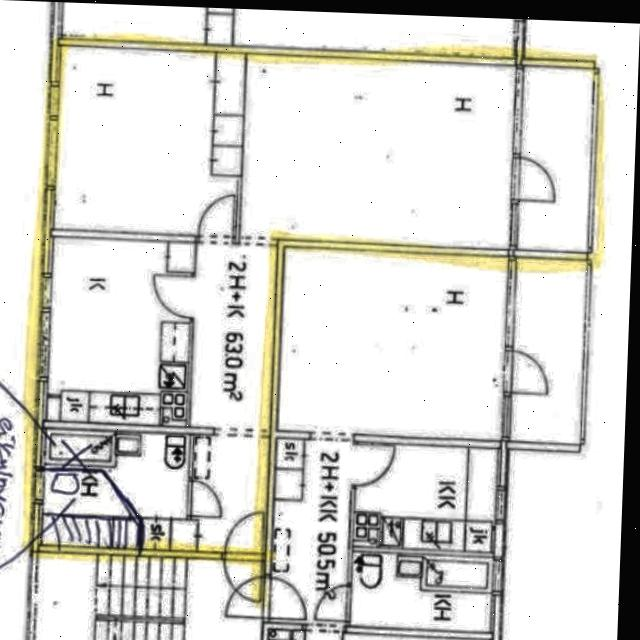room: (277, 248, 510, 441), (47, 238, 195, 427), (354, 443, 497, 552), (350, 552, 493, 632)
